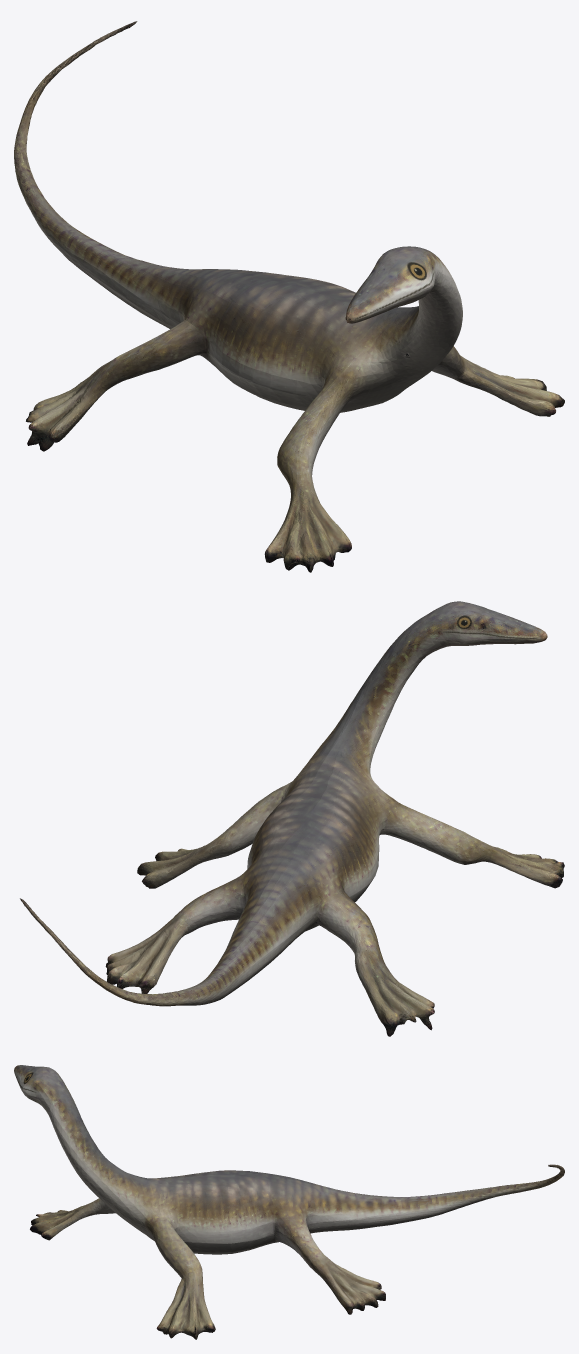
3 renders of one model, top to bottom at view 1: azimuth 30°, elevation 25°; view 2: azimuth 150°, elevation 25°; view 3: azimuth 270°, elevation 25°, orthographic. The views are drawn at different scales.
Parts seen in each view (by area): view 1: world; view 2: world; view 3: world.
Part boxes in pixels (x1=…): world: x1=14, y1=21, x2=564, y2=572; world: x1=20, y1=601, x2=564, y2=1036; world: x1=14, y1=1065, x2=564, y2=1339.
Bounding box in the file's own units: 0.5829 × 0.396 × 0.9994.
1 material, 1 textured.
